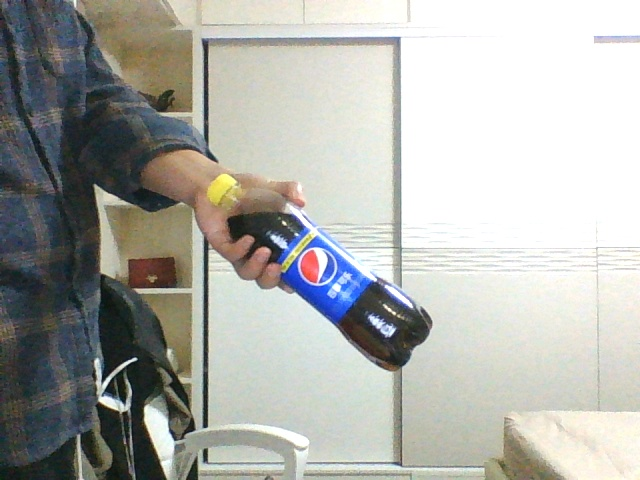Cola: (207, 175, 434, 371)
